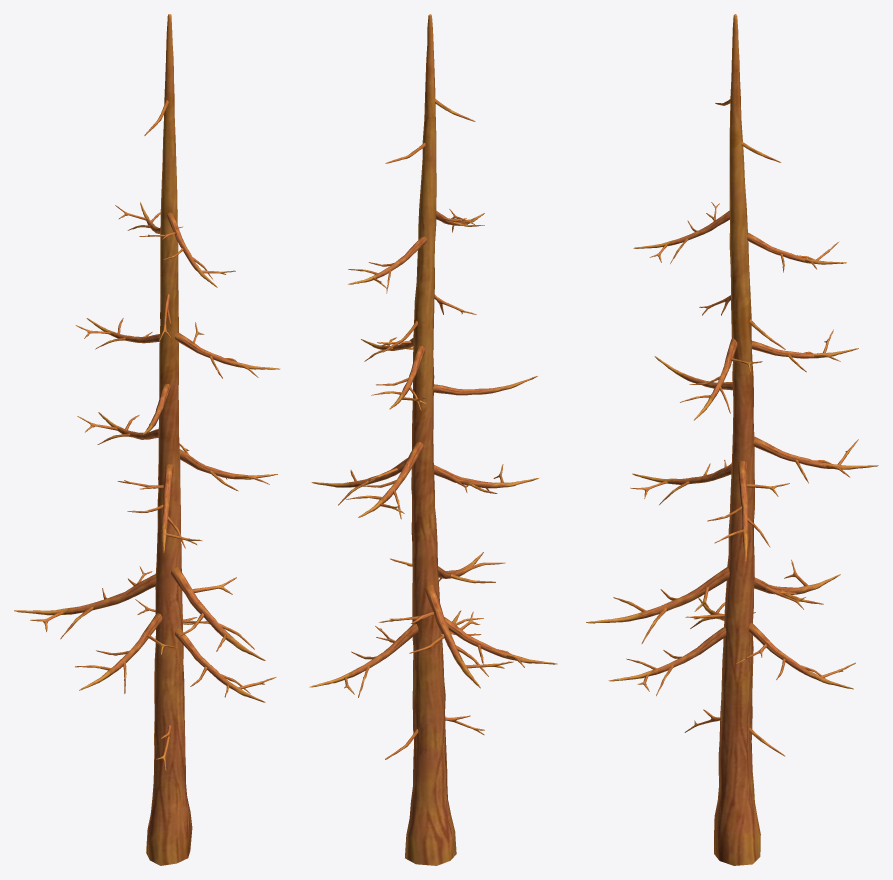
Rendered from stylized_pine_var5.glb.
The picture shows the model from 3 angles, left to right: view 1: azimuth 30°, elevation 25°; view 2: azimuth 150°, elevation 25°; view 3: azimuth 270°, elevation 25°; orthographic projection.
Parts seen in each view (by area): view 1: stylized_pine_var5; view 2: stylized_pine_var5; view 3: stylized_pine_var5.
Boxes of the visible parts, <box> form: stylized_pine_var5: <box>14,14,279,865</box>; stylized_pine_var5: <box>309,14,557,865</box>; stylized_pine_var5: <box>586,14,878,865</box>.
Size of the model in its own units: 401 by 1433 by 451.
1 material, 1 textured.
